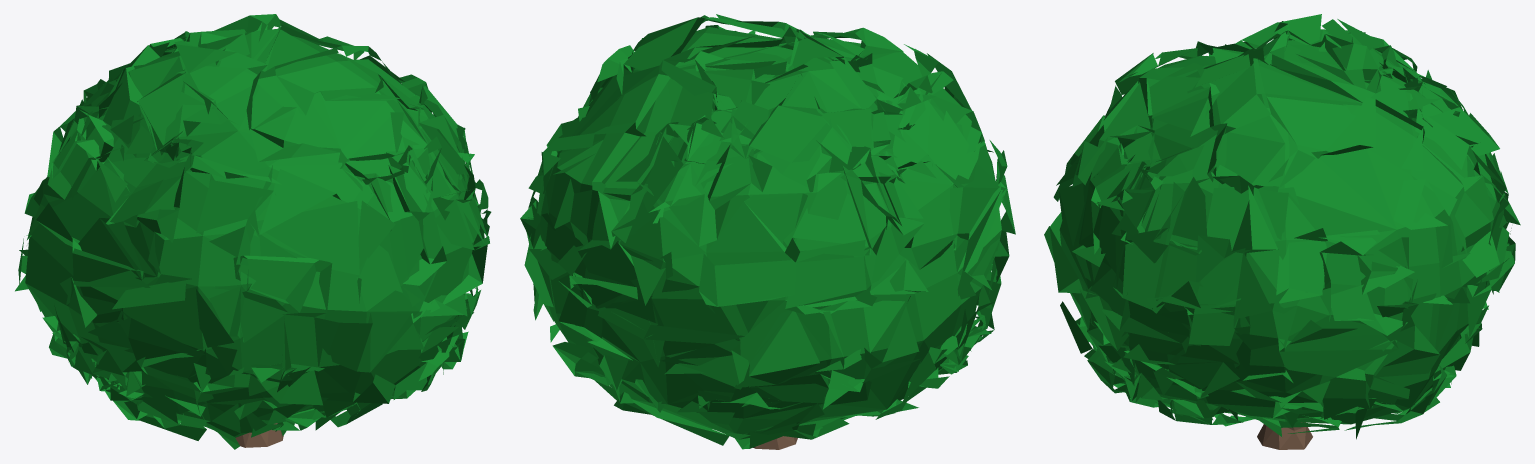
The model's file is bare_bush.glb.
The picture shows the model from 3 angles, left to right: view 1: azimuth 30°, elevation 25°; view 2: azimuth 150°, elevation 25°; view 3: azimuth 270°, elevation 25°; orthographic projection. The views are drawn at different scales.
Visible parts, largest first — view 1: leaves, bush, trunk; view 2: leaves, bush; view 3: leaves, bush, trunk.
Boxes of the visible parts, left/top/right/bottom form: leaves: left=15, top=14, right=491, bottom=449; bush: left=25, top=28, right=479, bottom=437; trunk: left=235, top=423, right=283, bottom=447; leaves: left=520, top=14, right=1015, bottom=449; bush: left=540, top=27, right=1001, bottom=434; leaves: left=1044, top=14, right=1520, bottom=439; bush: left=1059, top=29, right=1506, bottom=424; trunk: left=1257, top=422, right=1312, bottom=449.
Bounding box in the file's own units: 1.73 × 1.6 × 1.74.
